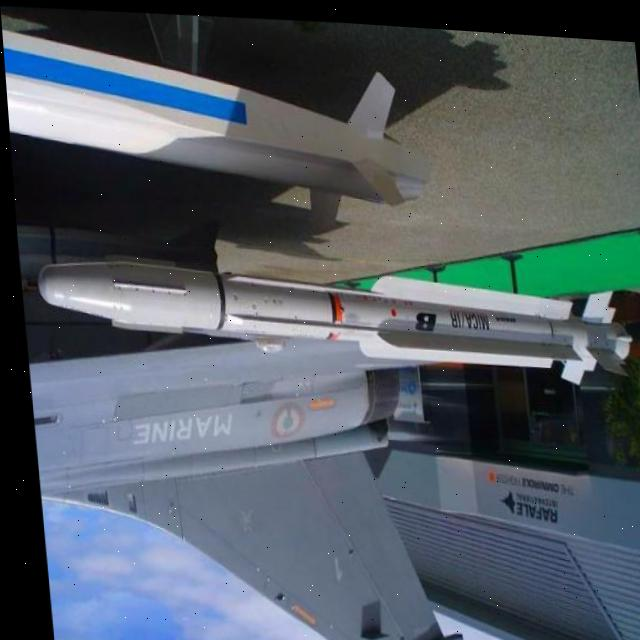missile: (35, 227, 633, 392), (30, 12, 422, 215)
